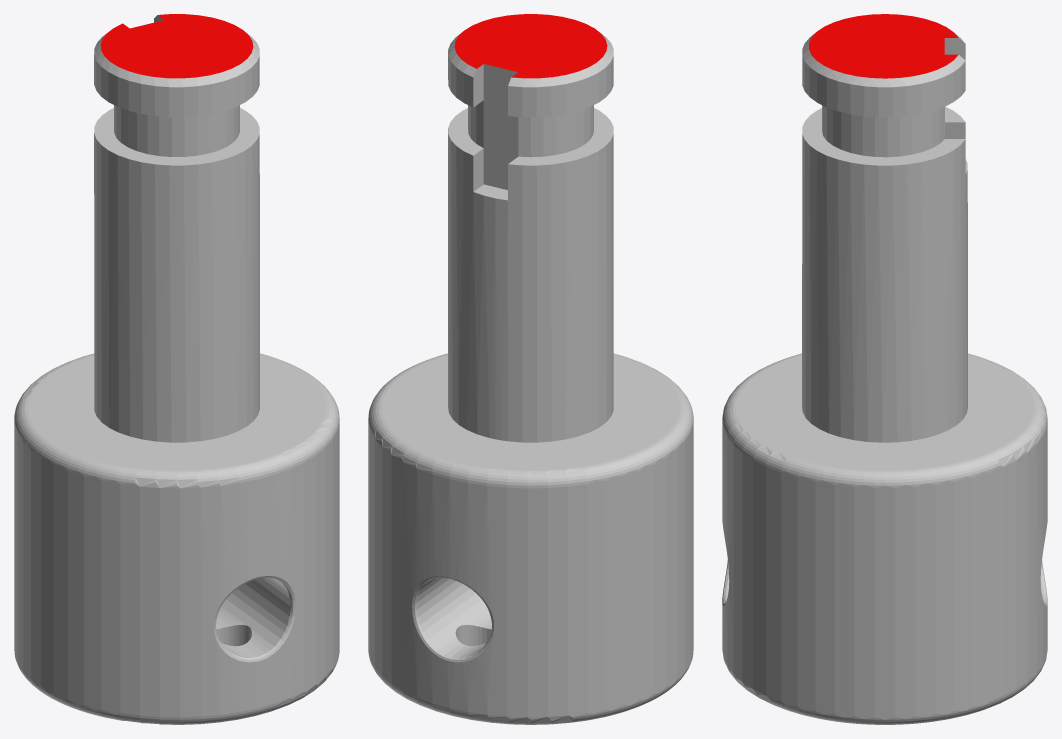
The model's file is 2_stp_9.obj.
The picture shows the model from 3 angles, left to right: view 1: azimuth 30°, elevation 25°; view 2: azimuth 150°, elevation 25°; view 3: azimuth 270°, elevation 25°; orthographic projection.
Parts seen in each view (by area): view 1: Object1; view 2: Object1; view 3: Object1.
Boxes of the visible parts, box(x1,y1,x2,y2) form: Object1: box(14, 14, 339, 724); Object1: box(368, 14, 693, 724); Object1: box(722, 14, 1047, 724).
Size of the model in its own units: 48.9 by 102 by 49.
